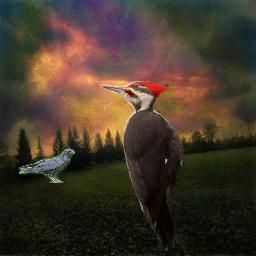Crow: (19, 149, 75, 183)
Woodpecker: (98, 81, 189, 254)
